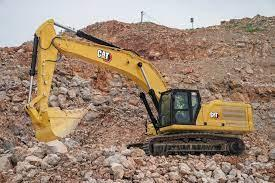excavator: (29, 20, 255, 143)
